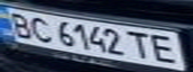1: (69, 21, 90, 50)
2: (103, 26, 127, 57)
4: (87, 24, 109, 54)
6: (51, 19, 75, 47)
B: (3, 9, 36, 38)
C: (24, 15, 57, 44)
E: (148, 32, 184, 65)
T: (124, 28, 154, 61)
